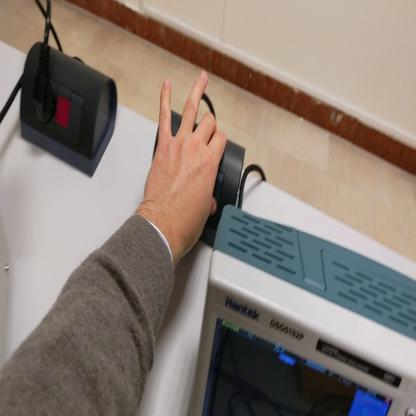hand: (142, 72, 226, 257)
oscilloscope: (188, 199, 416, 416)
socket: (19, 39, 119, 181), (156, 106, 250, 250)
